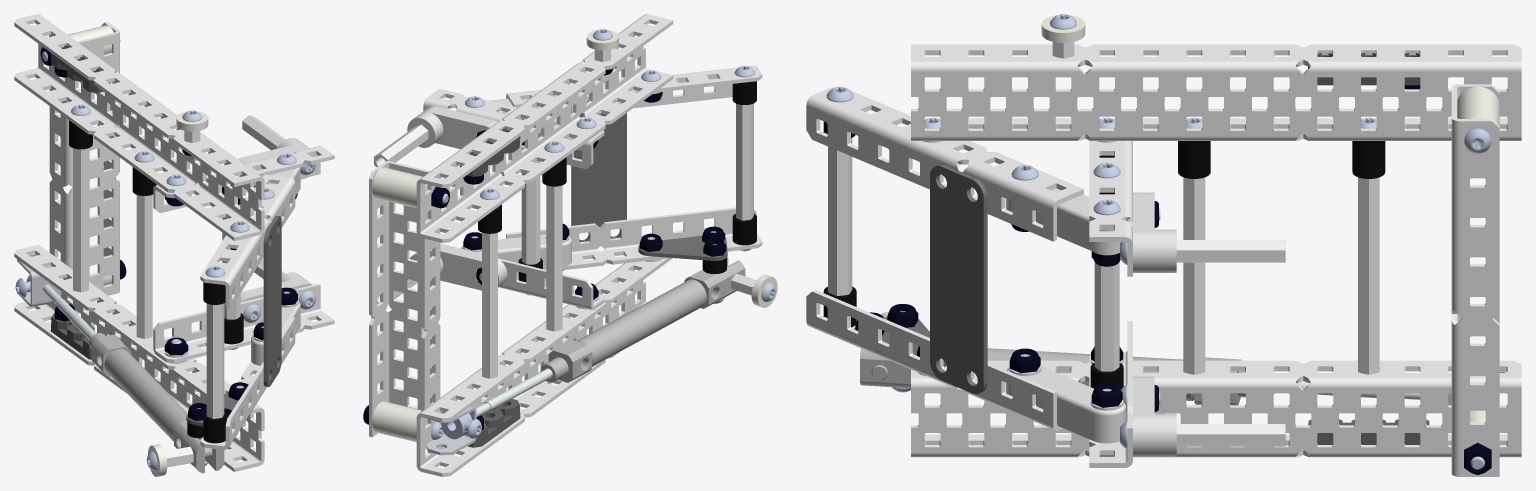
The model's file is Claw Piece.fbx.
3 renders of one model, left to right at view 1: azimuth 30°, elevation 25°; view 2: azimuth 150°, elevation 25°; view 3: azimuth 270°, elevation 25°, orthographic. The views are drawn at different scales.
Parts seen in each view (by area): view 1: Body1 (×16), Body2 (×6), Body3 (×8); view 2: Body1 (×18), Body2 (×5), Body3 (×8); view 3: Body1 (×14), Body2 (×6), Body3 (×4).
Boxes of the visible parts, x1,y1,x2,y2 form: Body1 (×16): (14, 14, 334, 473); Body2 (×6): (73, 115, 285, 467); Body3 (×8): (68, 25, 243, 476); Body1 (×18): (369, 14, 762, 476); Body2 (×5): (374, 103, 753, 378); Body3 (×8): (372, 29, 777, 442); Body1 (×14): (806, 44, 1521, 476); Body2 (×6): (828, 138, 1379, 446); Body3 (×4): (1041, 15, 1499, 178).
Bounding box in the file's own units: 4.67 × 5.46 × 8.2.
